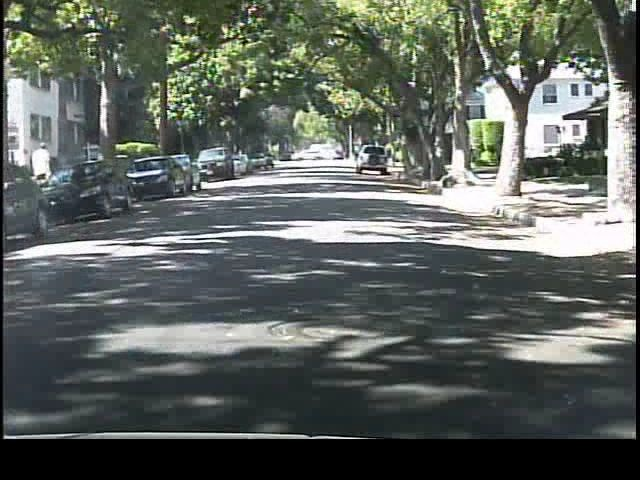person: (32, 138, 60, 204)
